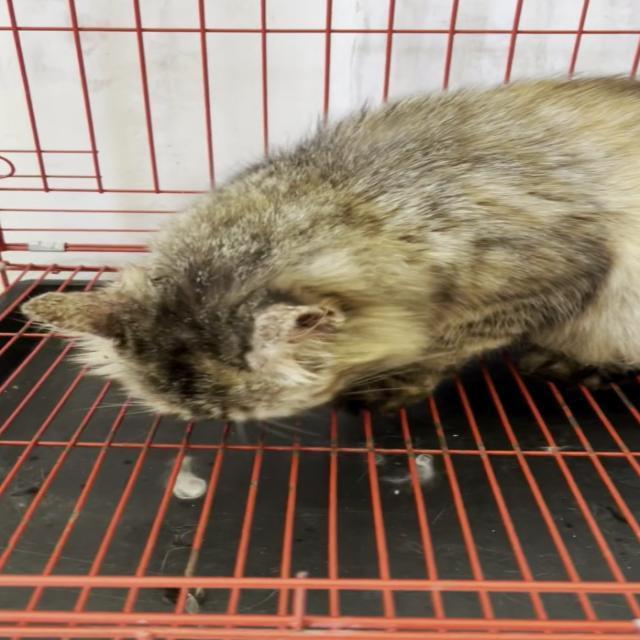ghe: (232, 295, 356, 364)
